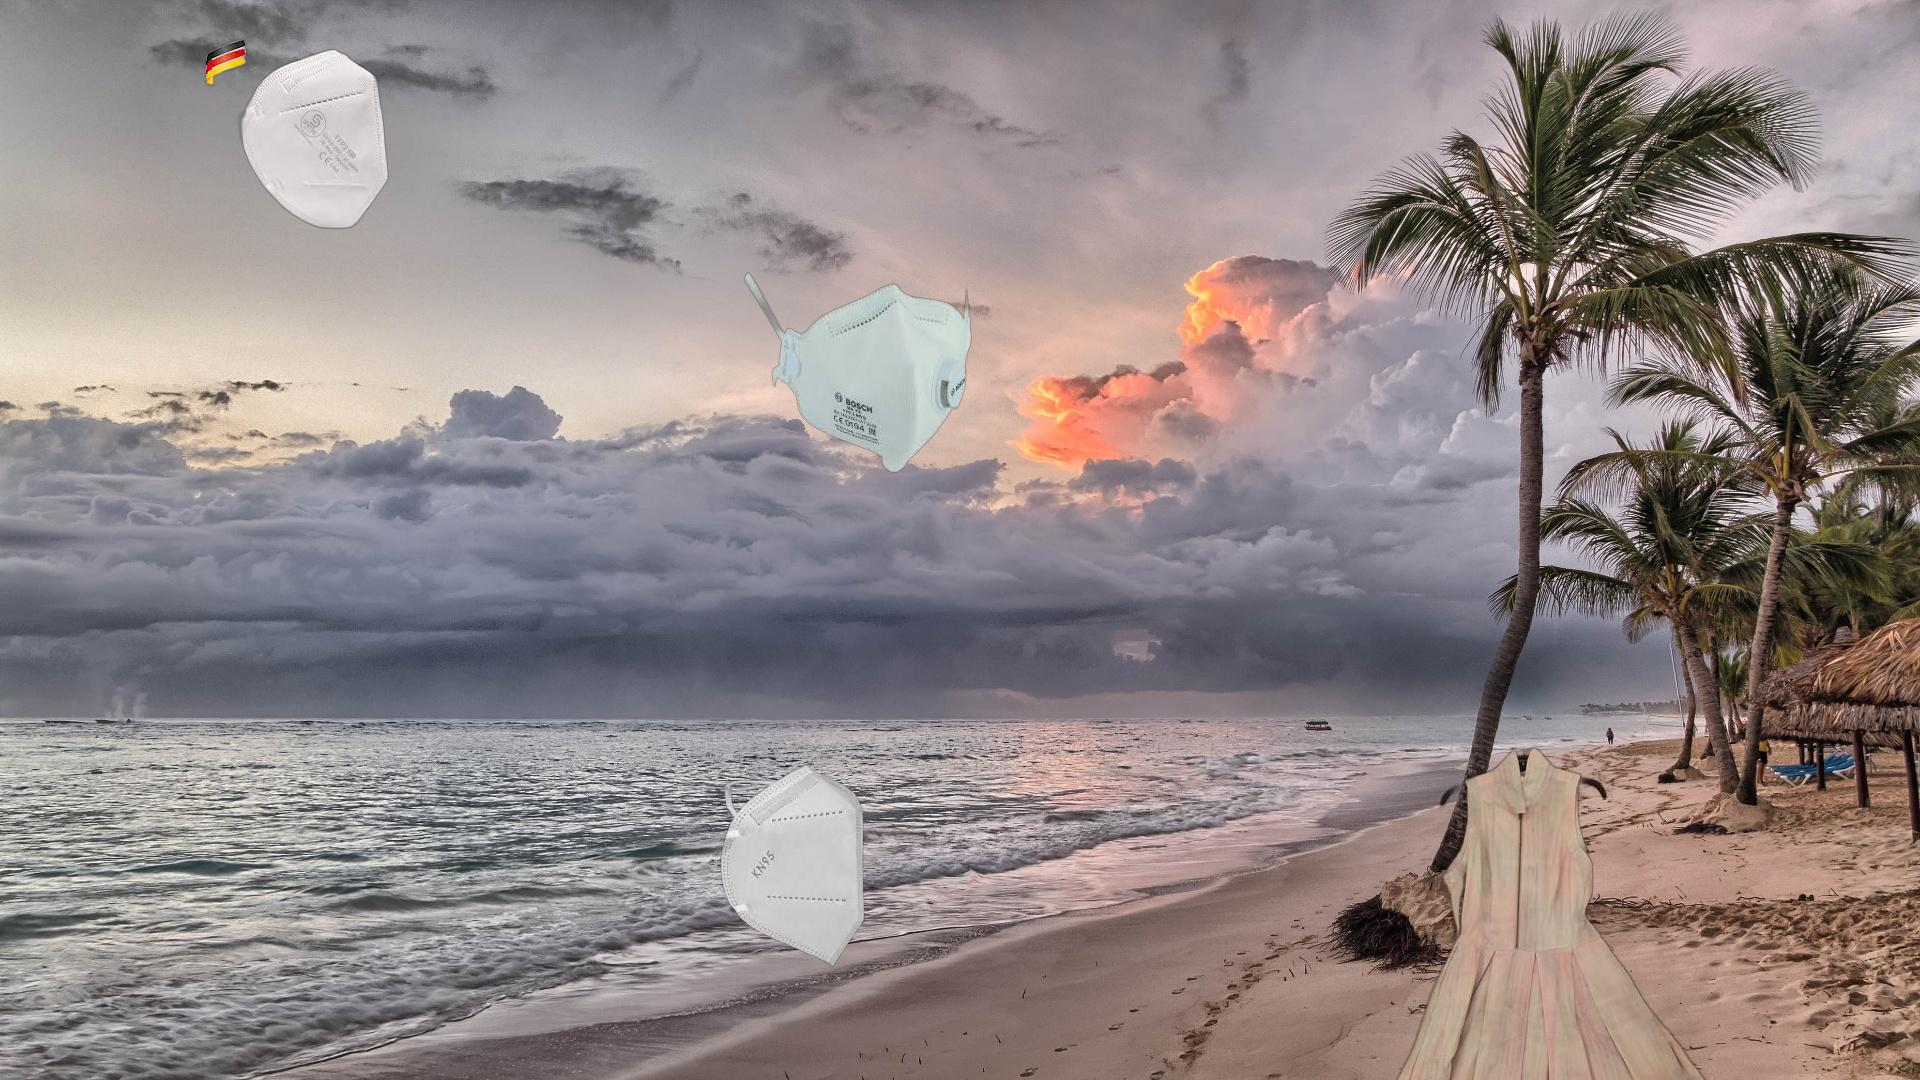clothes: (1364, 742, 1741, 1080)
trash: (738, 266, 975, 475), (646, 764, 866, 978), (202, 36, 392, 231)
